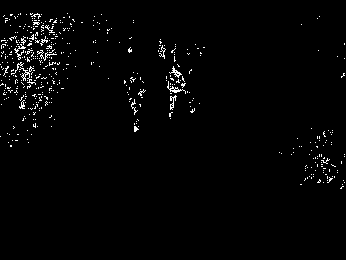person: (124, 70, 146, 132), (163, 64, 187, 119)
